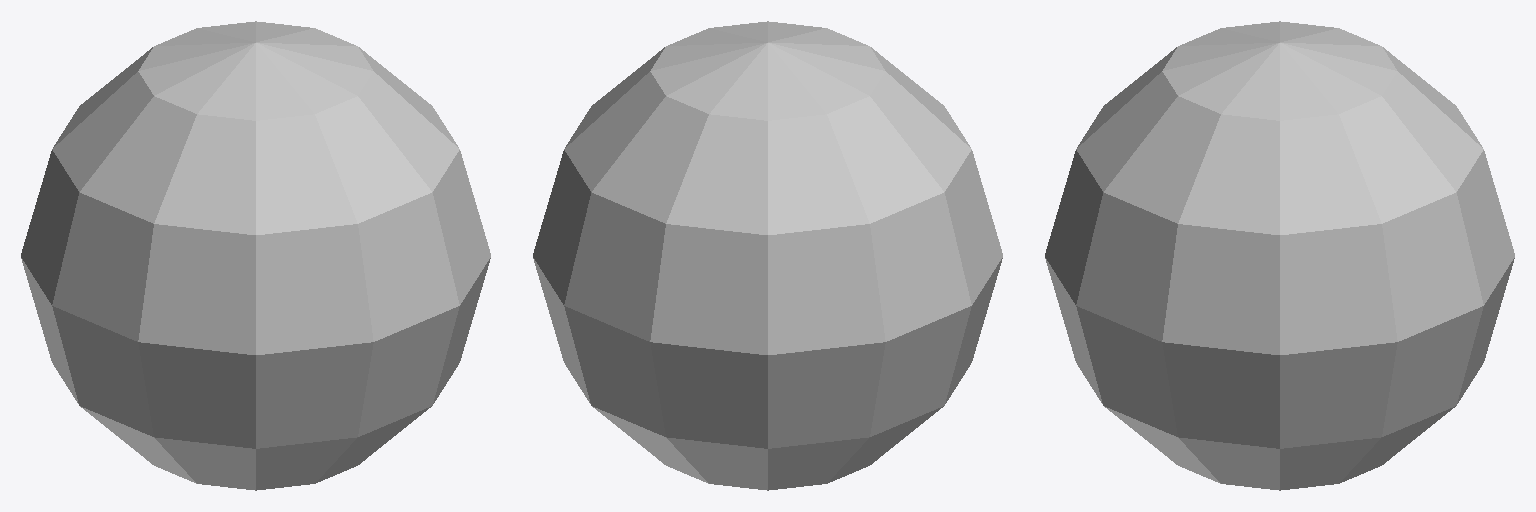
Rendered from Projectile.obj.
3 renders of one model, left to right at view 1: azimuth 30°, elevation 25°; view 2: azimuth 150°, elevation 25°; view 3: azimuth 270°, elevation 25°, orthographic.
Parts seen in each view (by area): view 1: Sphere001; view 2: Sphere001; view 3: Sphere001.
Part boxes in pixels (x1,y1,x2,y2): Sphere001: (21, 21, 490, 490); Sphere001: (533, 21, 1002, 490); Sphere001: (1045, 21, 1514, 490).
Size of the model in its own units: 3.11 by 3.11 by 3.11.